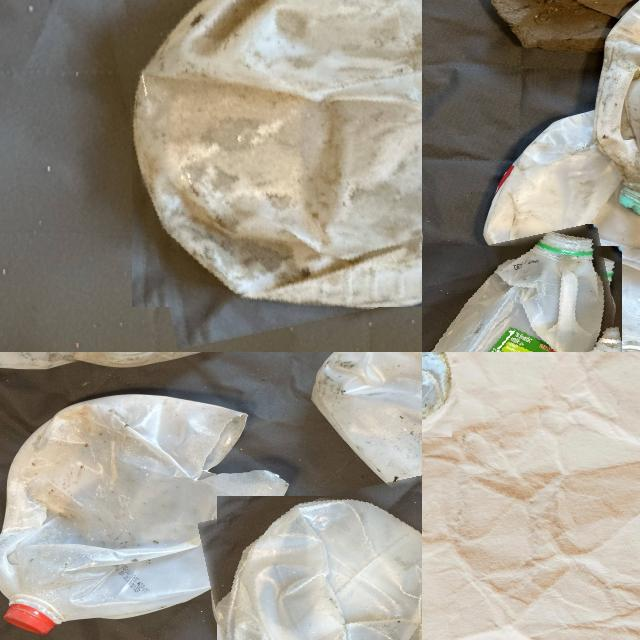milk-jug: (113, 0, 422, 328), (0, 398, 257, 639), (487, 107, 640, 352), (206, 485, 422, 640), (422, 234, 631, 352), (311, 352, 422, 560)
